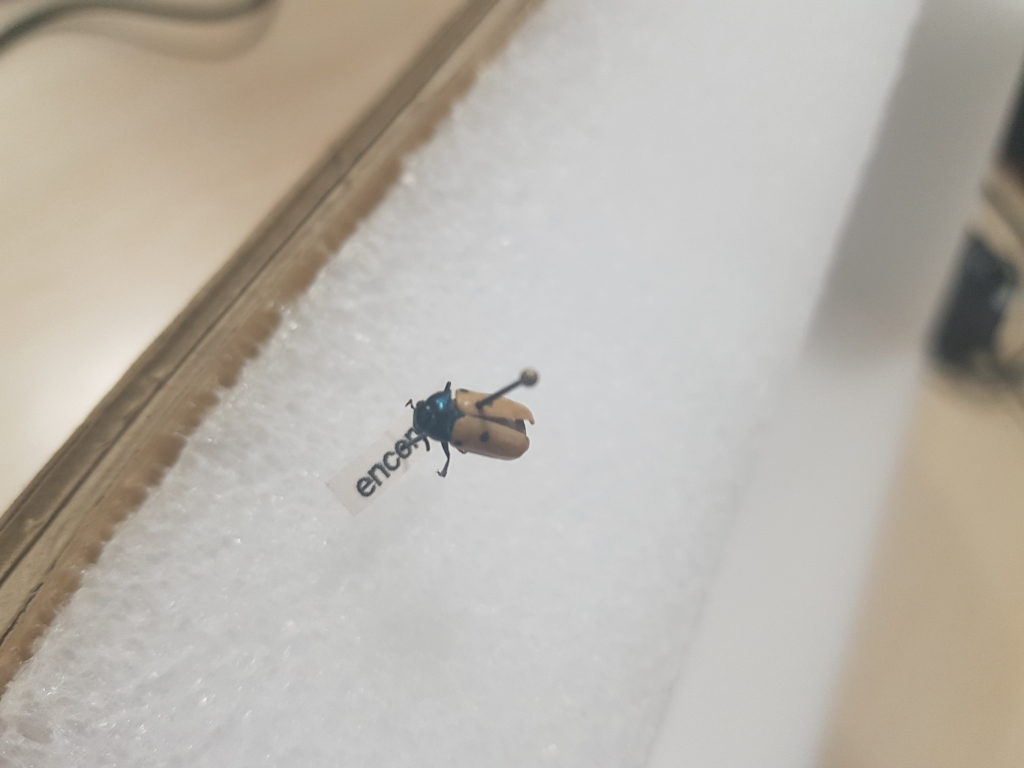Labidostomis_maculipennis: (398, 376, 538, 470)
